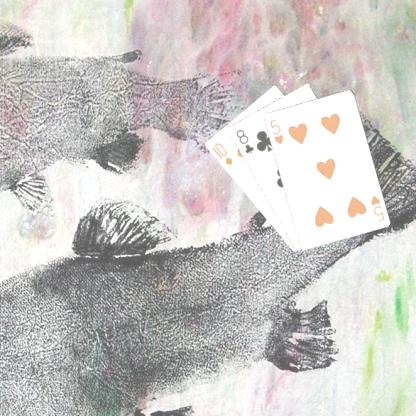10D: (209, 140, 233, 166)
5H: (367, 192, 386, 223), (266, 116, 284, 146)
8C: (233, 127, 255, 156)
